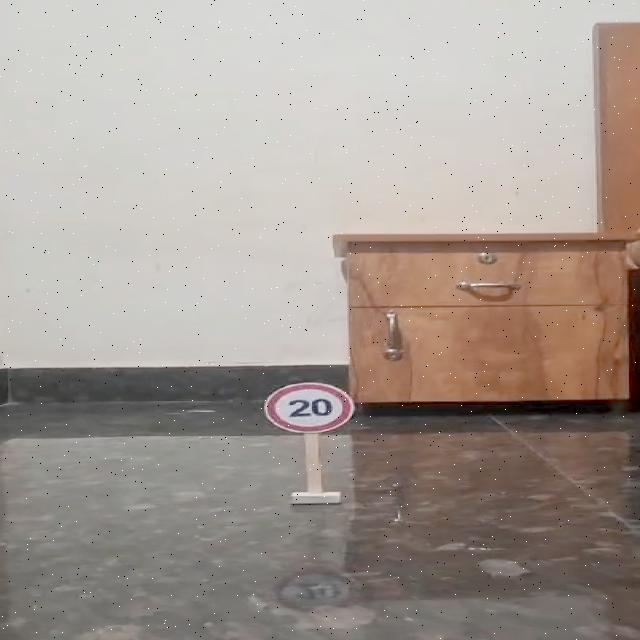Speed20: (255, 379, 362, 437)
